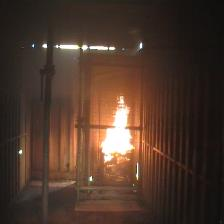fire: (100, 97, 134, 159)
